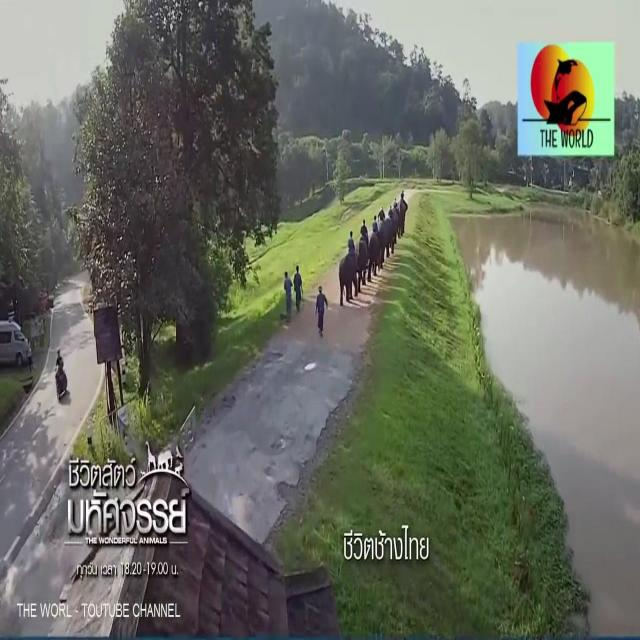Elephant: (338, 255, 360, 300), (380, 220, 394, 256), (358, 242, 370, 282), (370, 237, 381, 274), (398, 201, 408, 232), (393, 212, 402, 244)
